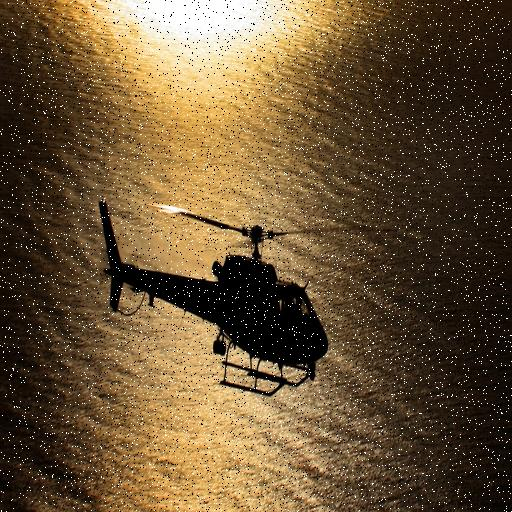helicopter: (56, 163, 389, 404)
